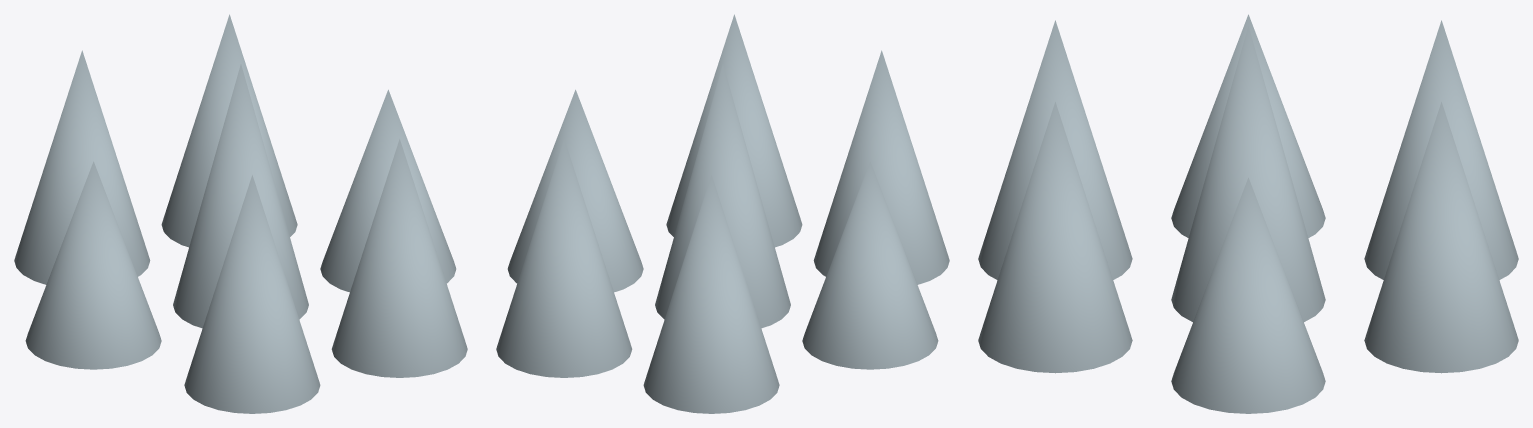
Rendered from TileSpikesRemake.fbx.
The picture shows the model from 3 angles, left to right: view 1: azimuth 30°, elevation 25°; view 2: azimuth 150°, elevation 25°; view 3: azimuth 270°, elevation 25°; orthographic projection. The views are drawn at different scales.
Parts seen in each view (by area): view 1: tileSpikes_shallow; view 2: tileSpikes_shallow; view 3: tileSpikes_shallow.
Part boxes in pixels (bbox=[...]): tileSpikes_shallow: bbox=[14, 14, 467, 413]; tileSpikes_shallow: bbox=[496, 14, 949, 413]; tileSpikes_shallow: bbox=[978, 14, 1518, 413].
Size of the model in its own units: 140 by 78.33 by 140.
